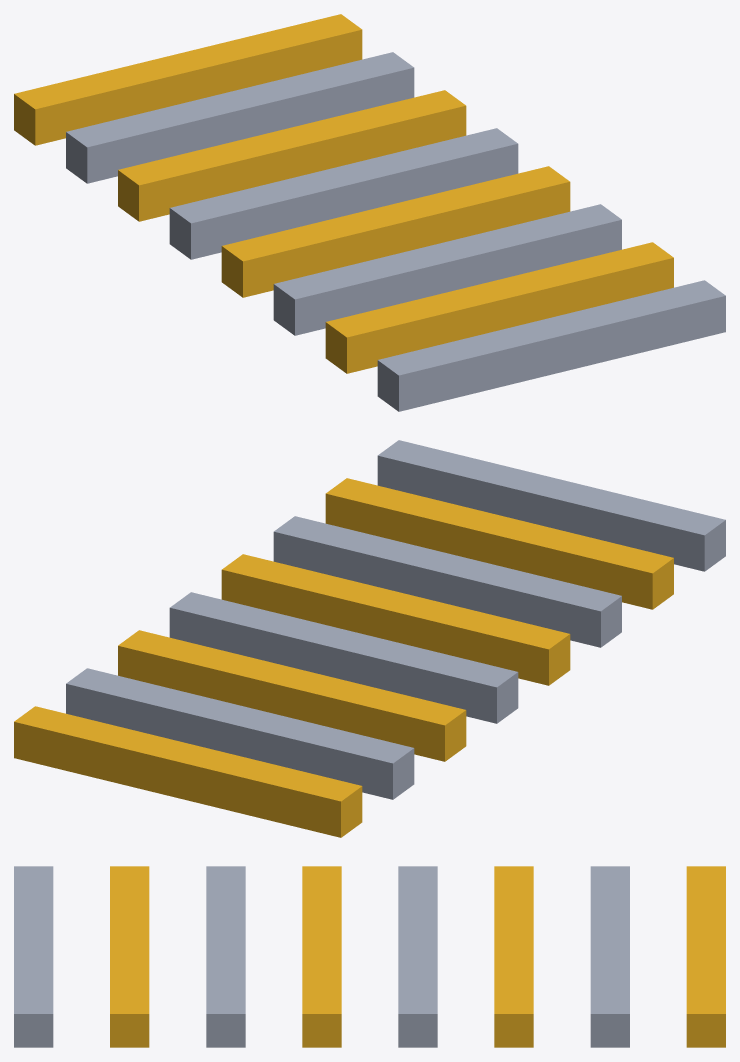
Rendered from vibe_floor_belt.glb.
3 renders of one model, top to bottom at view 1: azimuth 30°, elevation 25°; view 2: azimuth 150°, elevation 25°; view 3: azimuth 270°, elevation 25°, orthographic. The views are drawn at different scales.
Visible parts, largest first — view 1: vibe_floor_belt; view 2: vibe_floor_belt; view 3: vibe_floor_belt.
Part boxes in pixels (x1,y1,x2,y2): vibe_floor_belt: (14, 14, 725, 411); vibe_floor_belt: (14, 440, 725, 837); vibe_floor_belt: (14, 866, 725, 1047).
Bounding box in the file's own units: 0.8 × 0.085 × 1.63.
